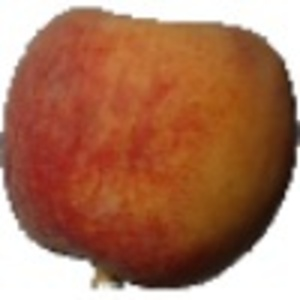pêssego: (1, 5, 300, 292)
